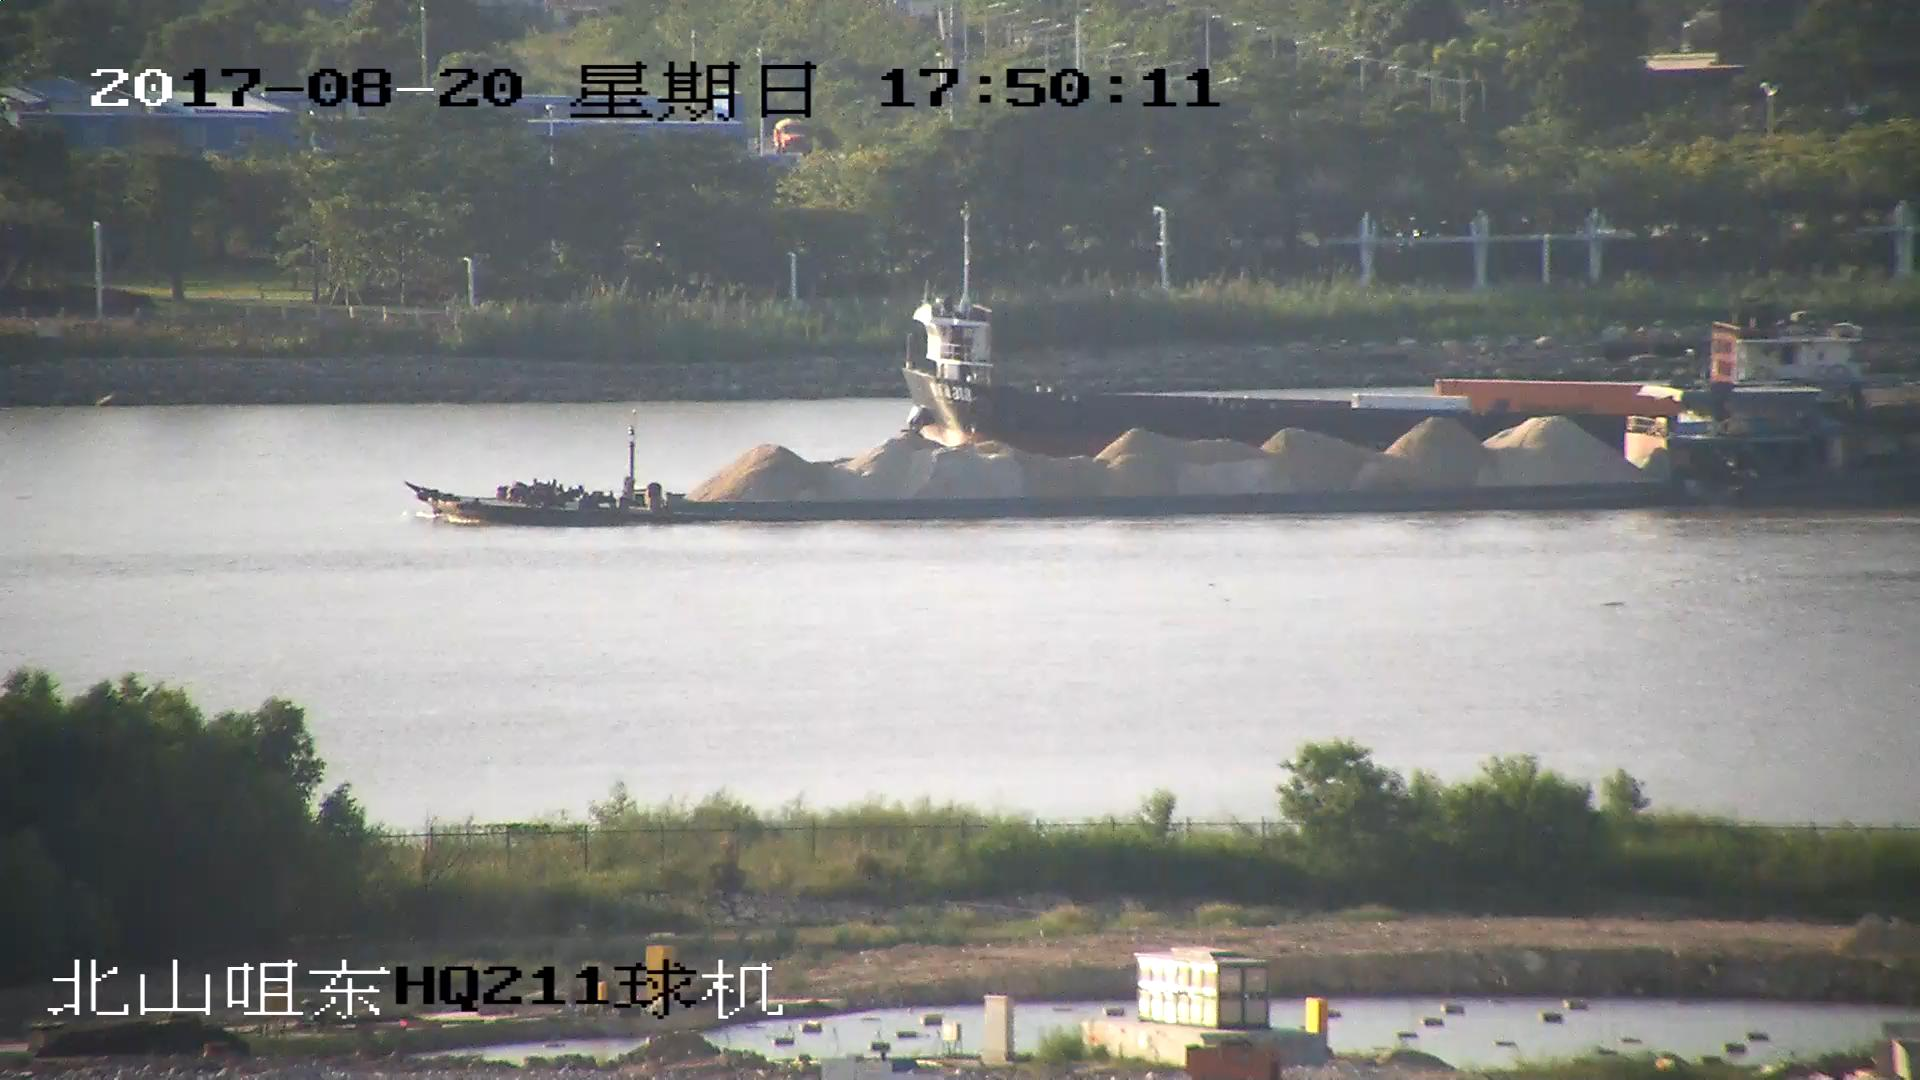general cargo ship: (891, 201, 1867, 448)
ore carrier: (414, 371, 1920, 521)
